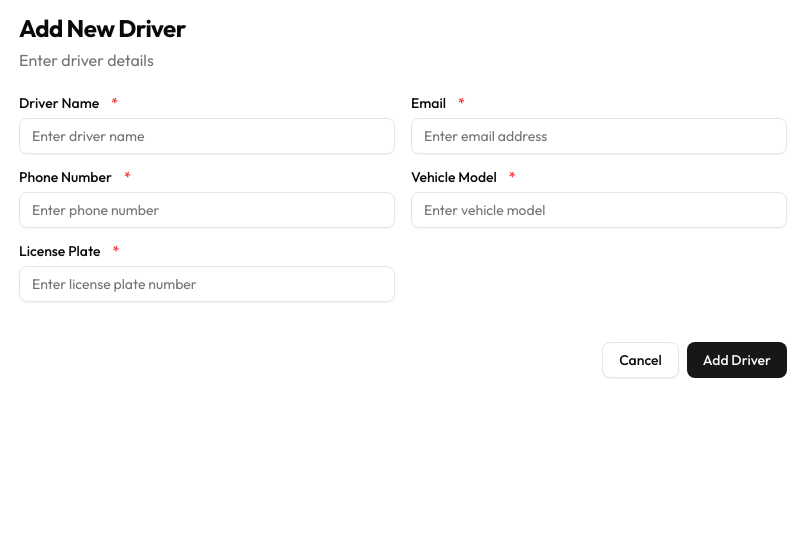
DriverForm › shows validation errors for empty form submission
Submit empty form
Click the button "Add Driver". click: point(737, 360)
box: [687,342,787,378]
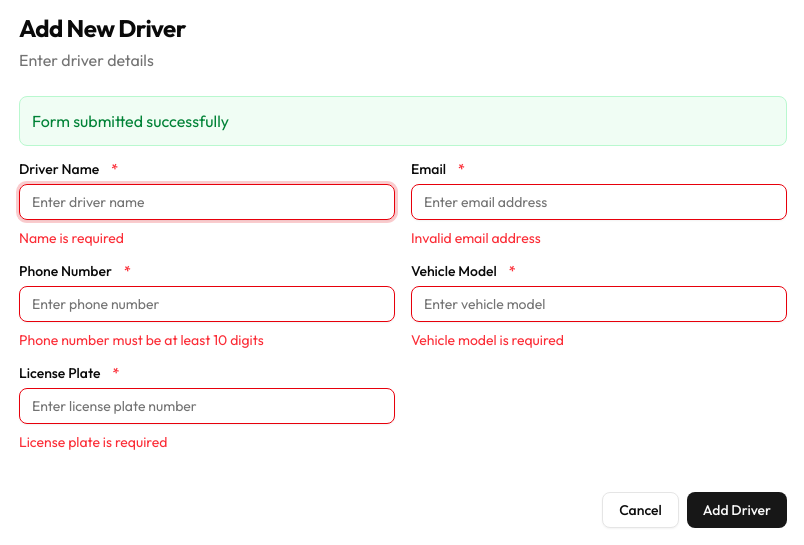
Expected: the text "Name is required" is shown, [19,229,124,247]
Expected: the text "Invalid email address" is shown, [411,229,541,247]
Expected: the text "Phone number must be at least 10 digits" is shown, [19,331,264,349]
